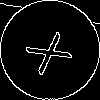X: (25, 25, 82, 77)
